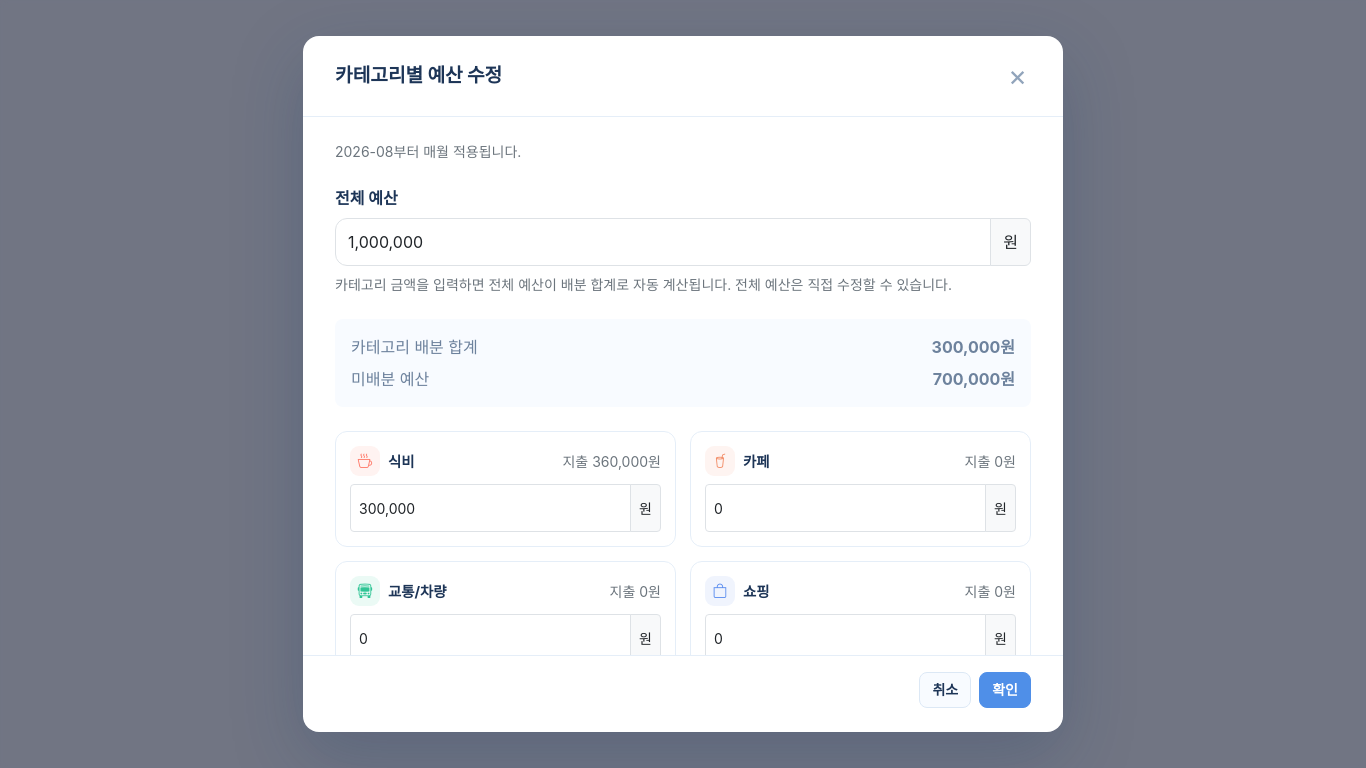
Test case: CategoryBudgetEditor › disables saving when category allocations exceed the total budget
Replace the text in the field with id "categoryBudgetTotal" with "100000" at (663, 242), box [335,218,991,266]
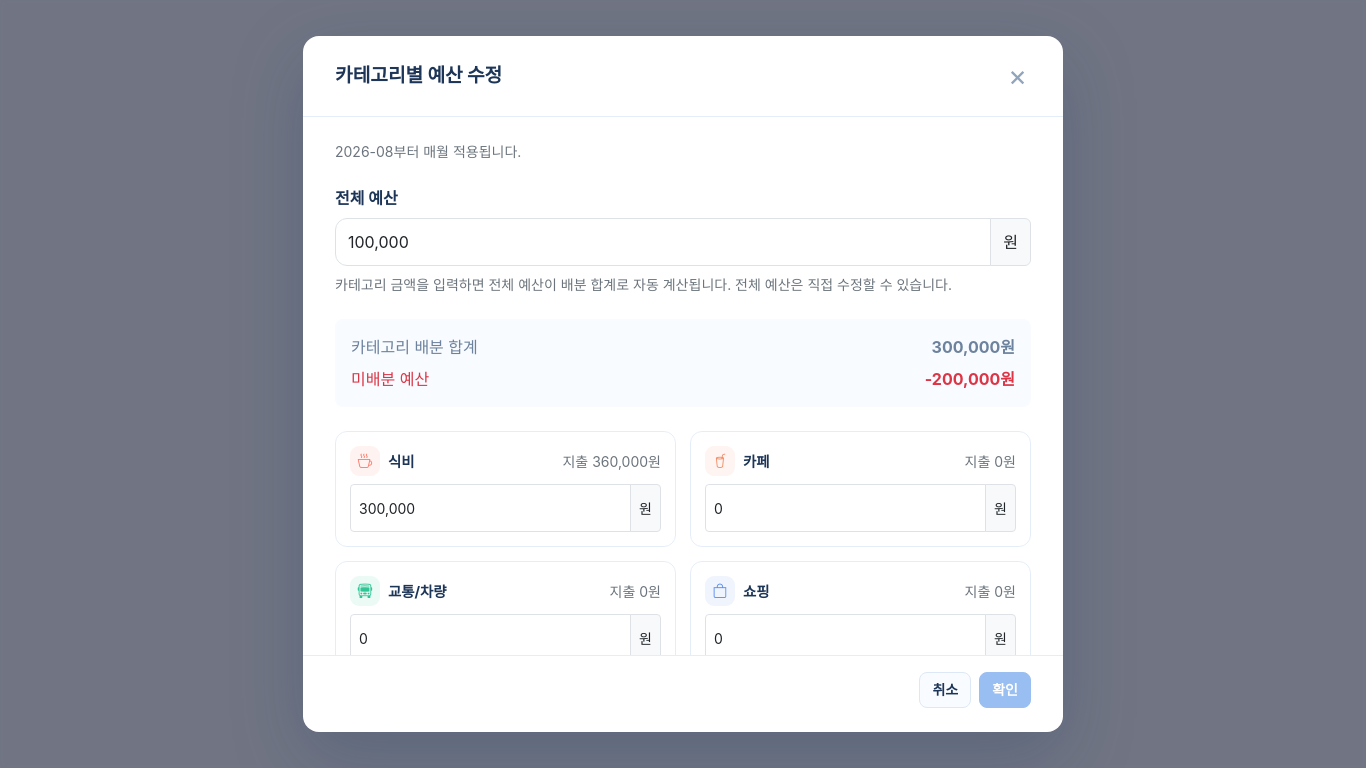
Replace the text in the field with id "budget-FOOD" with "100000" at (491, 508), box [350,484,631,532]
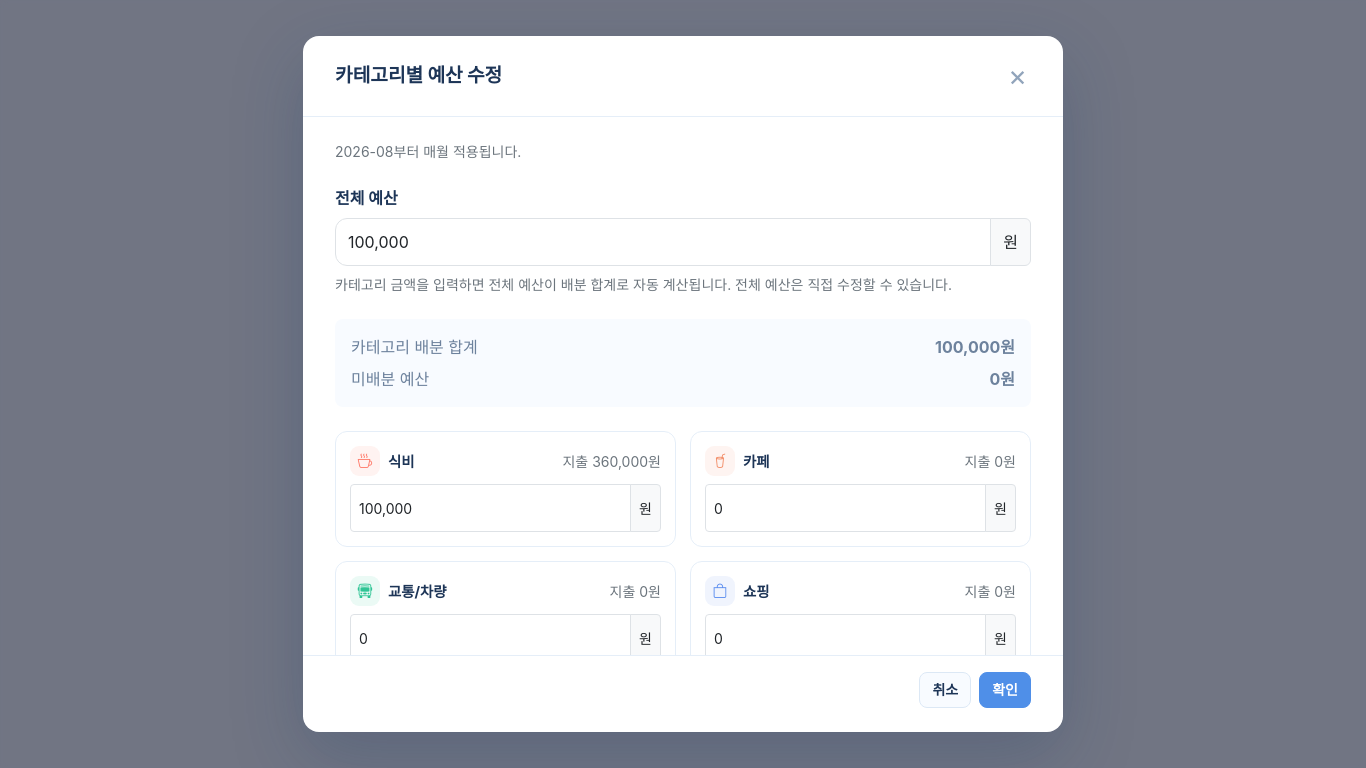
Replace the text in the field with id "budget-CAFE" with "100000" at (846, 508), box [705,484,986,532]
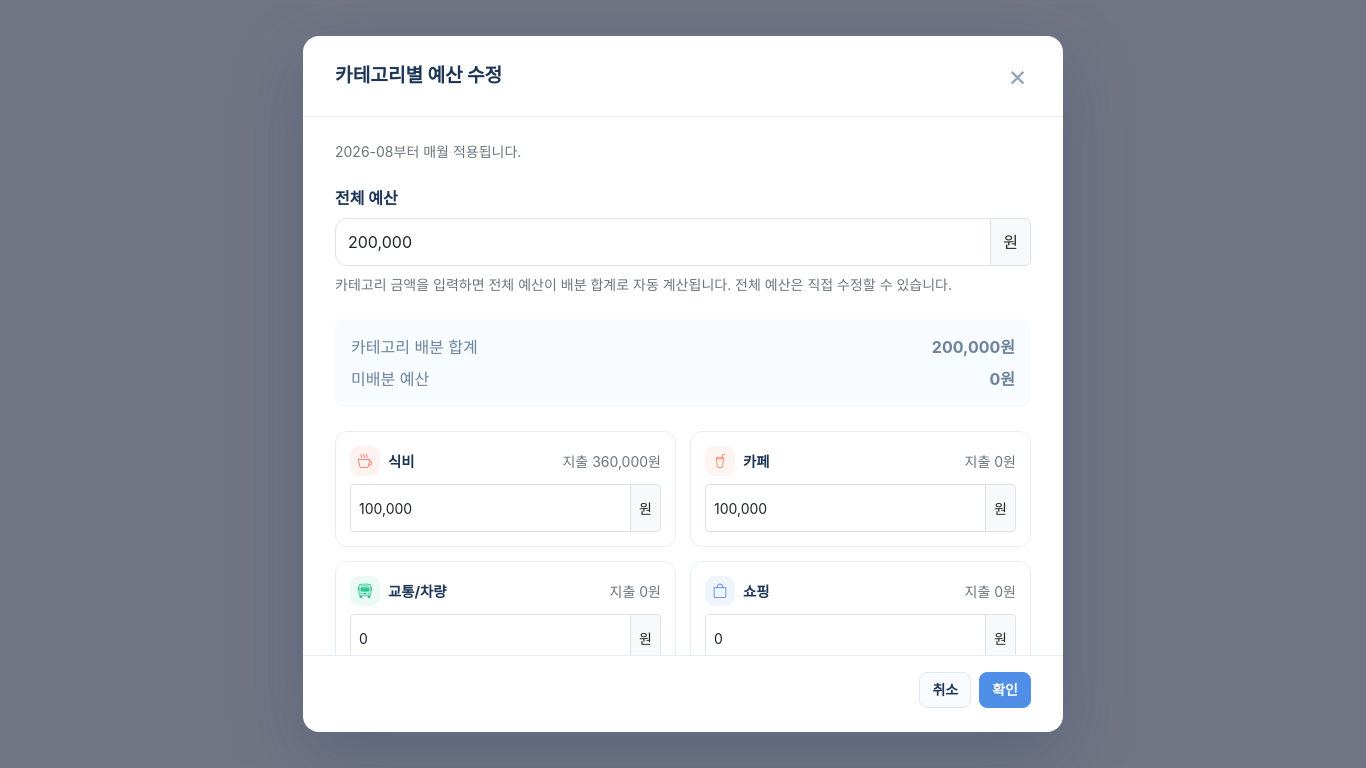
Replace the text in the field with id "categoryBudgetTotal" with "100000" at (663, 242), box [335,218,991,266]
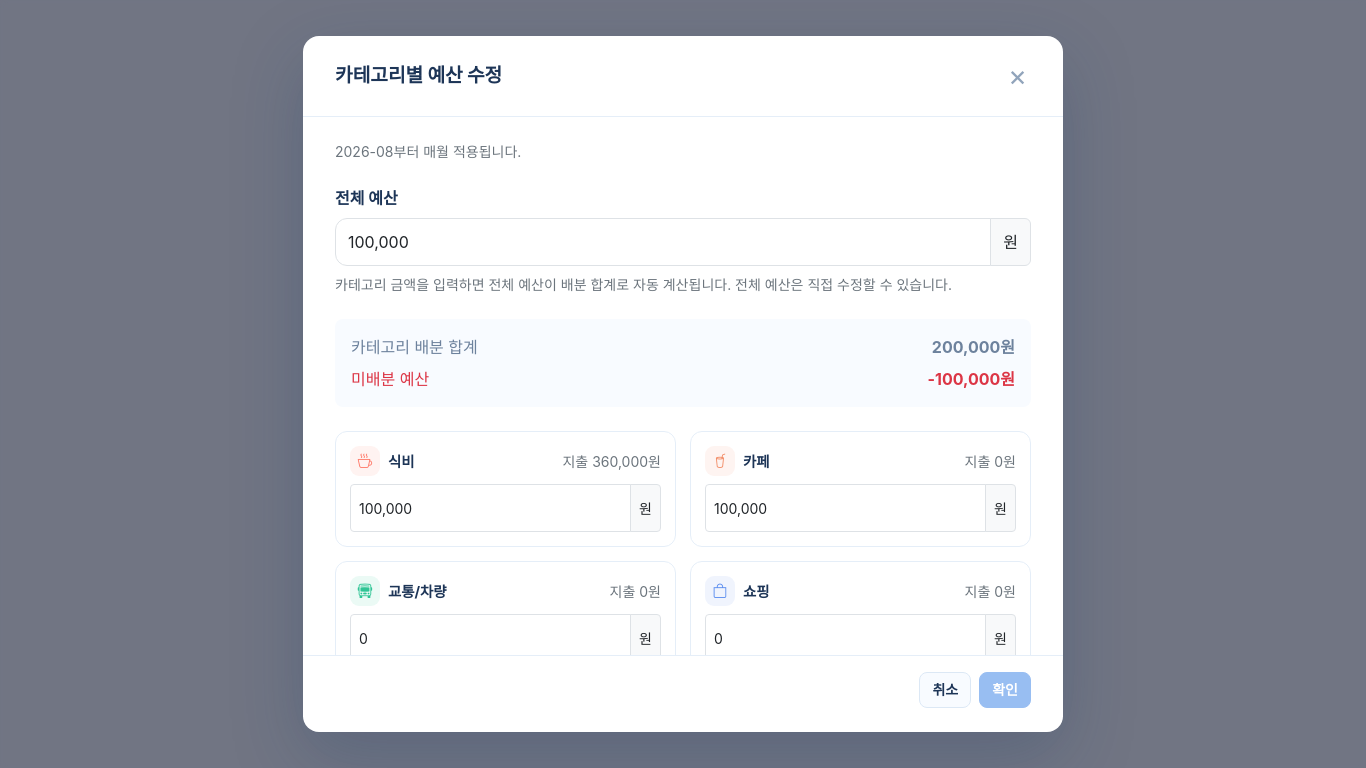
Now the button "확인" is disabled, box [979,672,1031,708]
